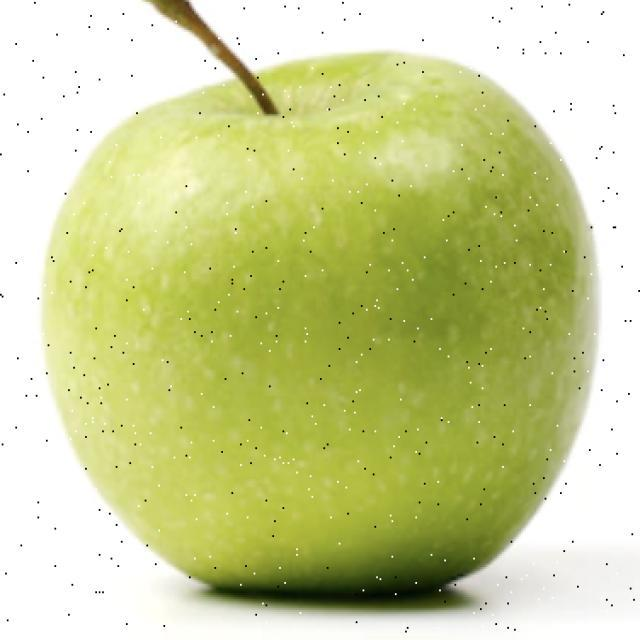Fresh Apple: (72, 67, 585, 605)
